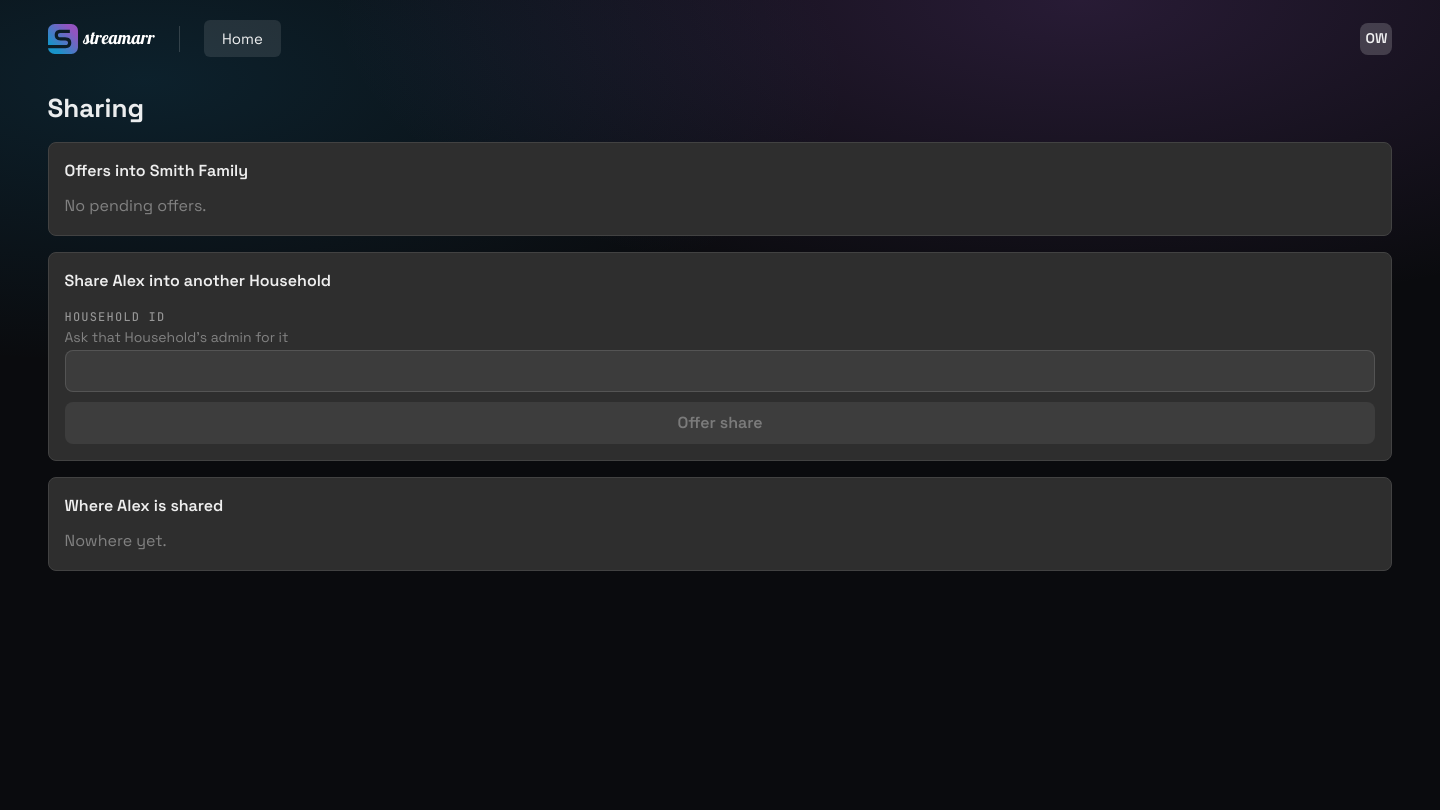
Test case: SharingScreen › shouldKeepTheOfferBeingTypedWhileSharingIsReadAgain
This screenshot has width=1440, height=810.
In the field labelled "Household id": {"x": 720, "y": 371} [64,350,1376,392], type "abc"
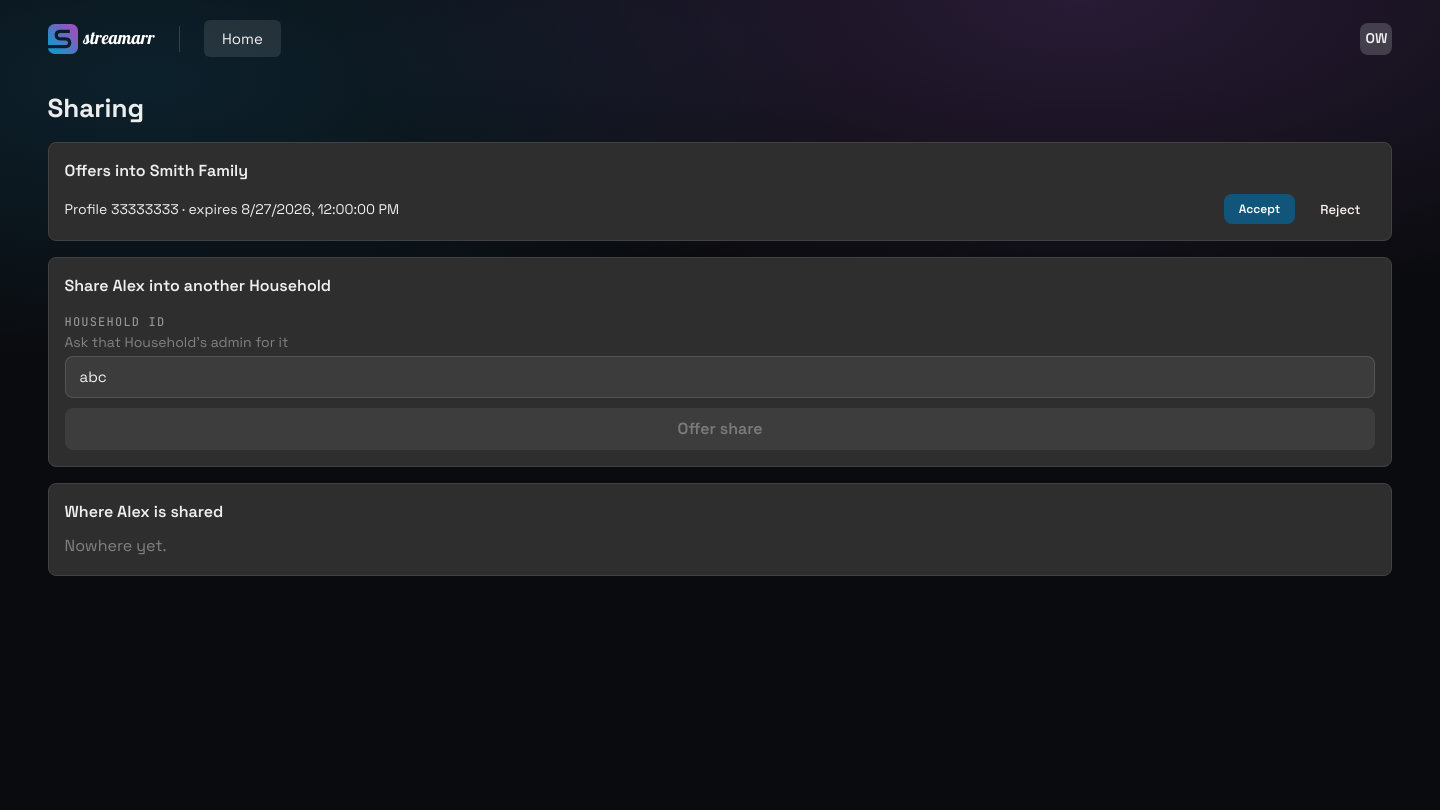
Result: the button "Accept" is shown at [1224,194,1295,224]
